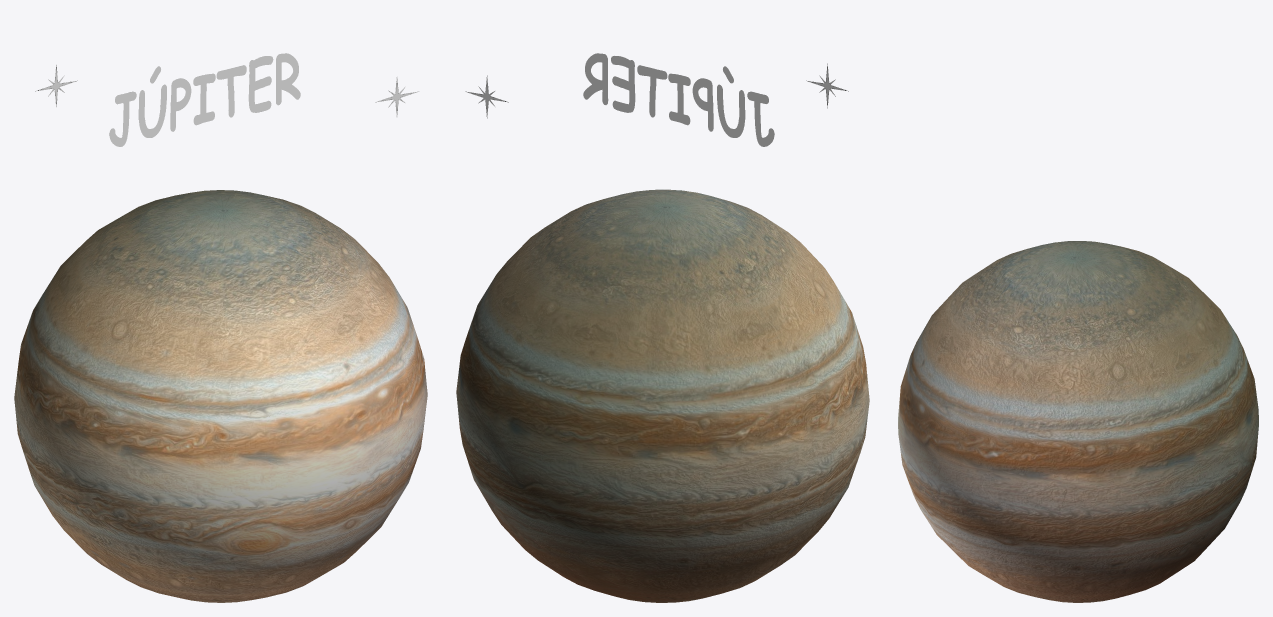
Rendered from jupiter.glb.
3 views of the same model, side by side, from view 1: azimuth 30°, elevation 25°; view 2: azimuth 150°, elevation 25°; view 3: azimuth 270°, elevation 25° (orthographic). The views are drawn at different scales.
Parts seen in each view (by area): view 1: Terra.005, Letra; view 2: Terra.005, Letra; view 3: Terra.005.
Part boxes in pixels (left/top/right/bottom): Terra.005: left=14, top=190, right=427, bottom=602; Letra: left=109, top=53, right=300, bottom=146; Terra.005: left=456, top=189, right=869, bottom=602; Letra: left=583, top=53, right=774, bottom=146; Terra.005: left=898, top=241, right=1258, bottom=602.
Size of the model in its own units: 1.4 by 1.95 by 1.3.
Materials: 2 (2 with a texture image).
